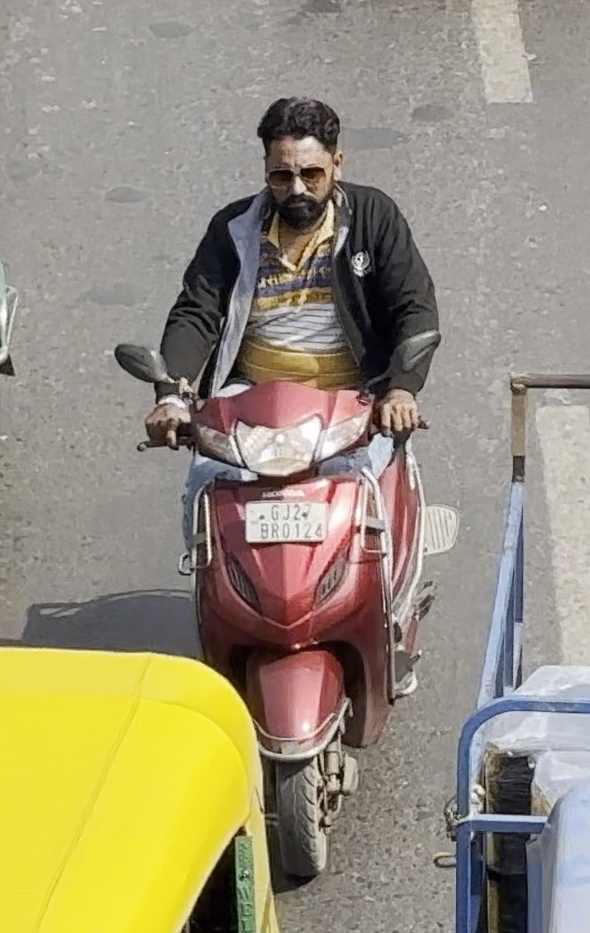BikeWithRider: (104, 85, 469, 888)
NoHelmet: (242, 88, 356, 230)
